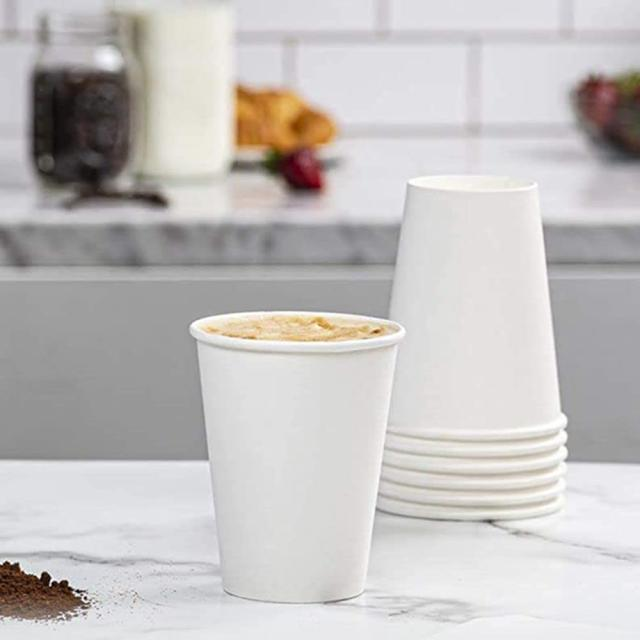Cup: (187, 307, 409, 604), (381, 171, 568, 523)
